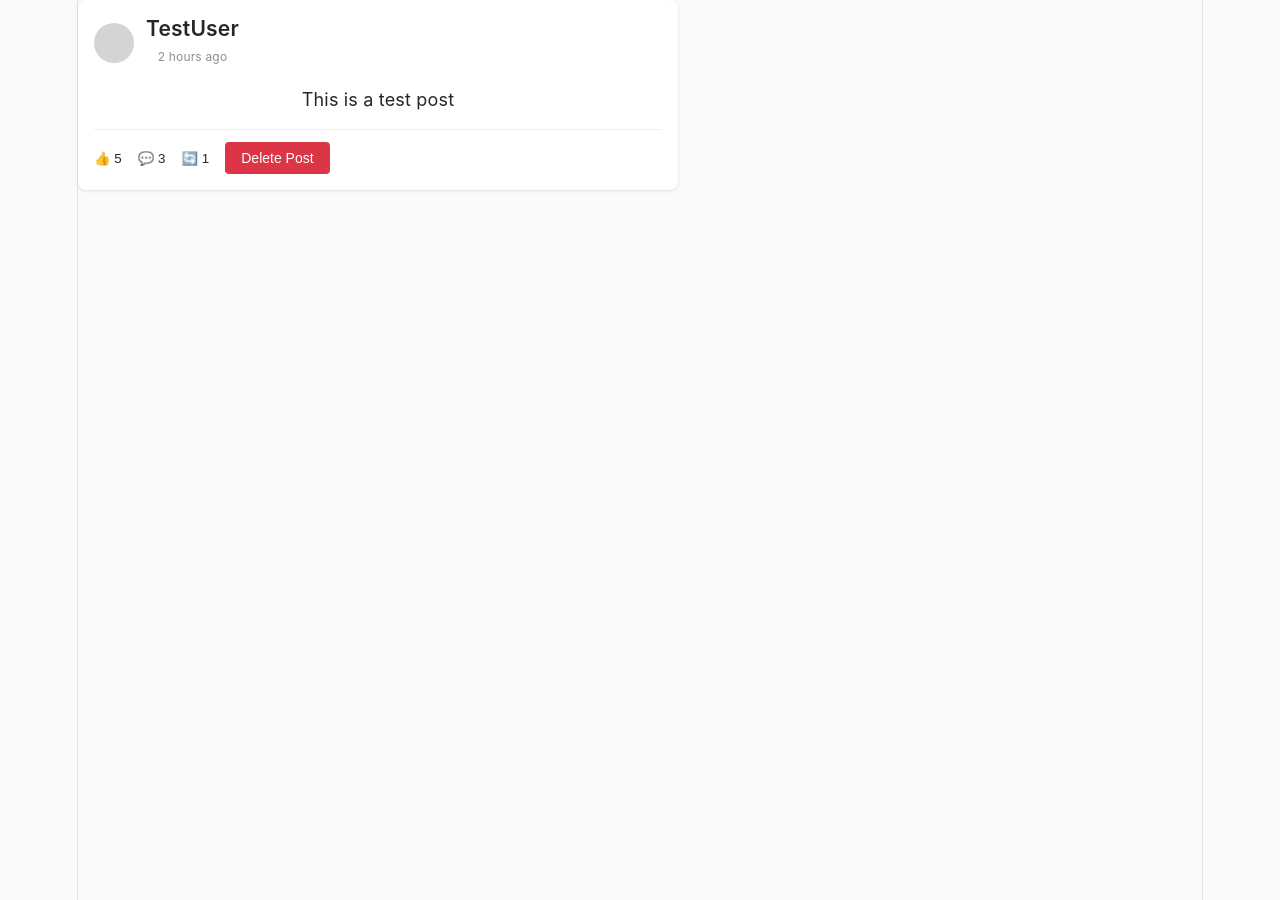
PostCard State Management › handles multiple like button clicks
// Click multiple times
Click the button "👍 5". click: (108, 158)
box: [94,142,122,174]
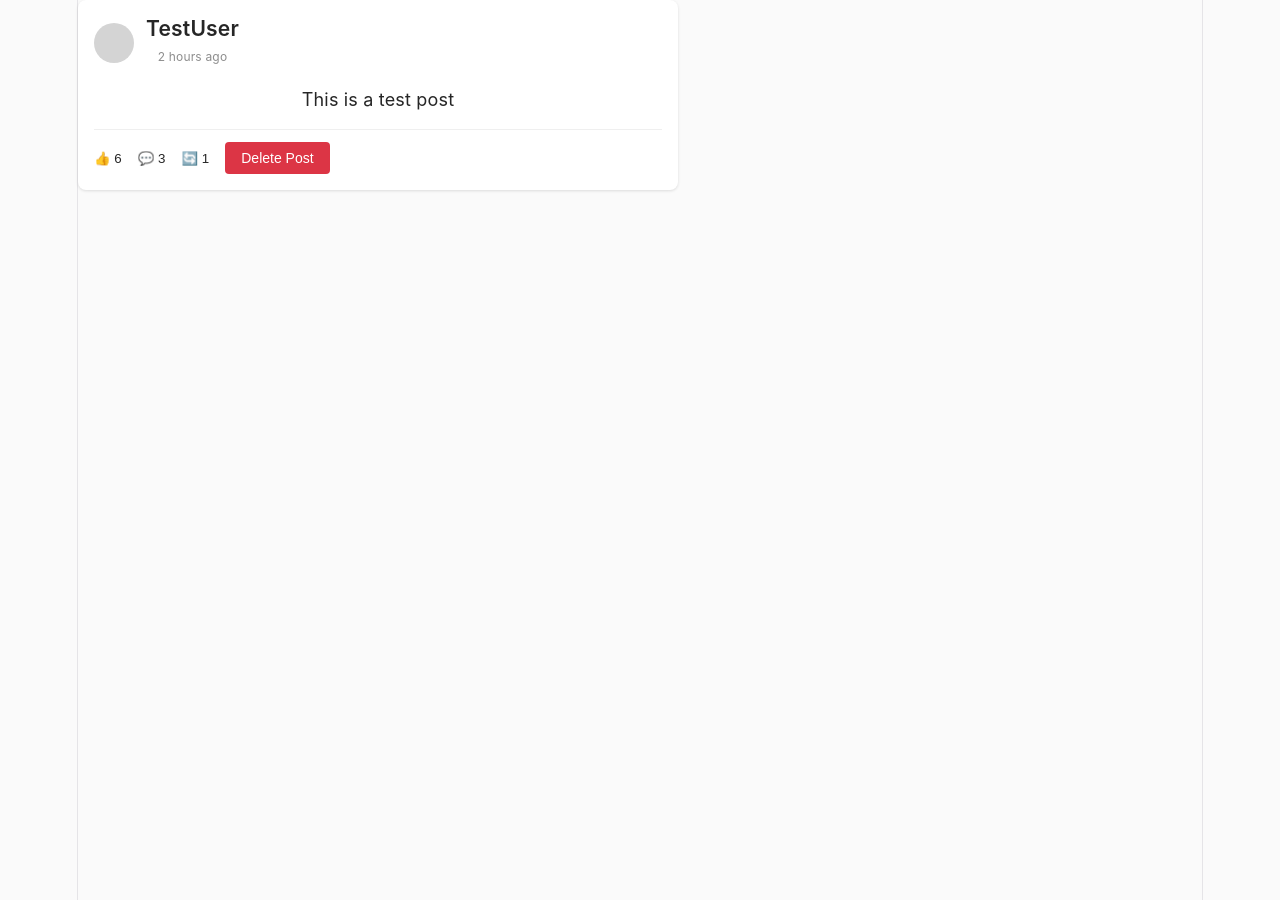
Click the button "👍 5". click: (108, 158)
box: [94,142,122,174]
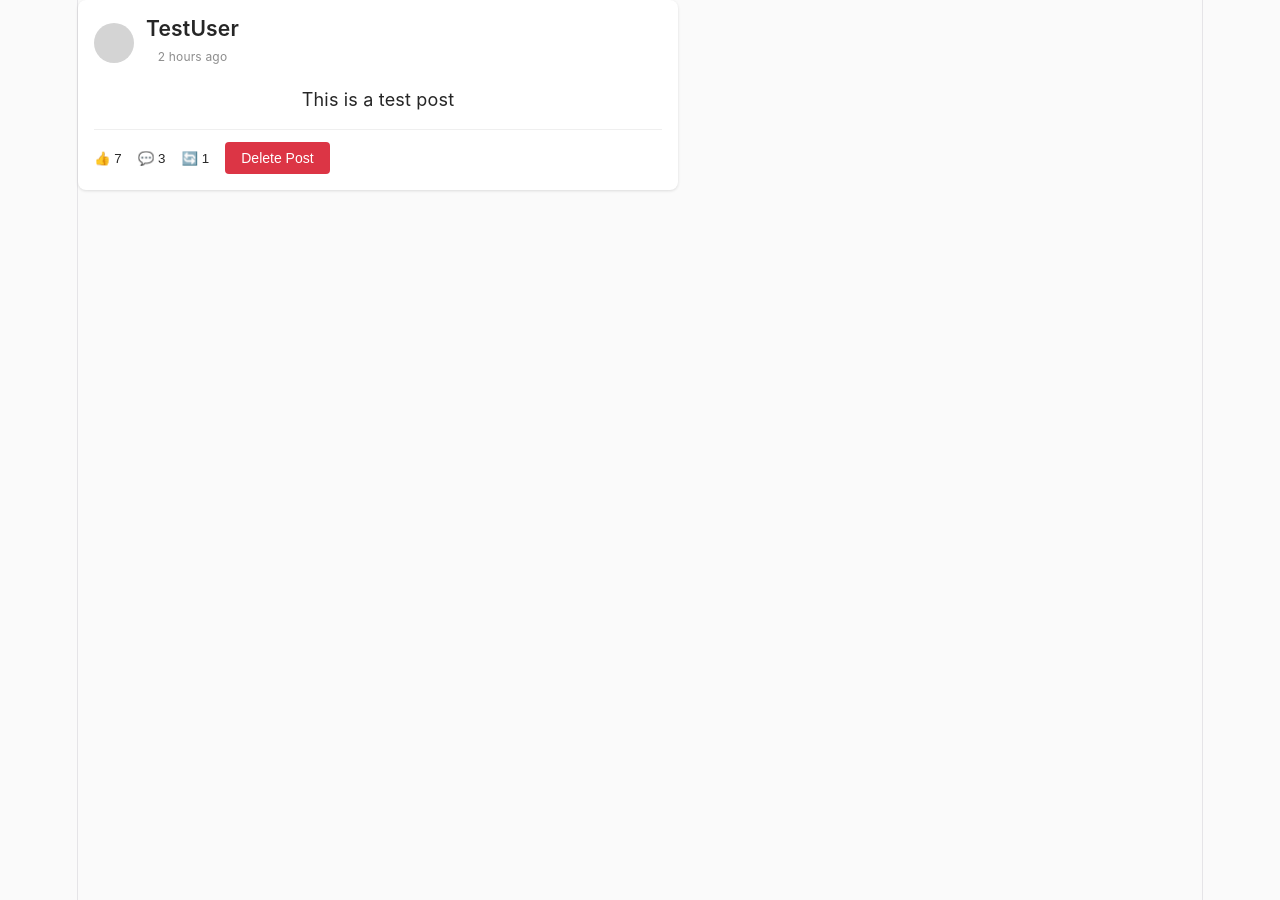
Click the button "👍 5". click: (108, 158)
box: [94,142,122,174]
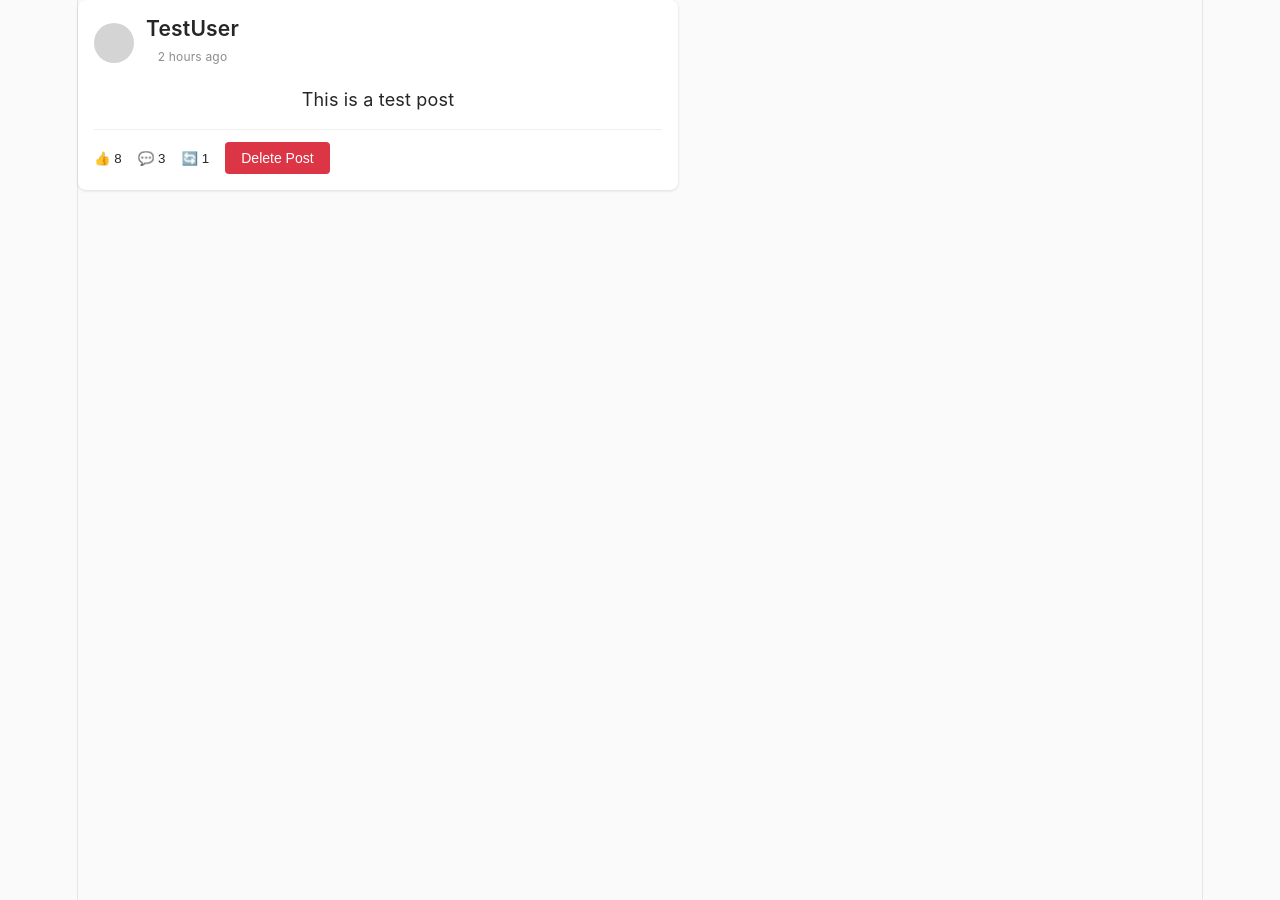
Expected: the button "👍 8" is shown, [94,142,122,174]
